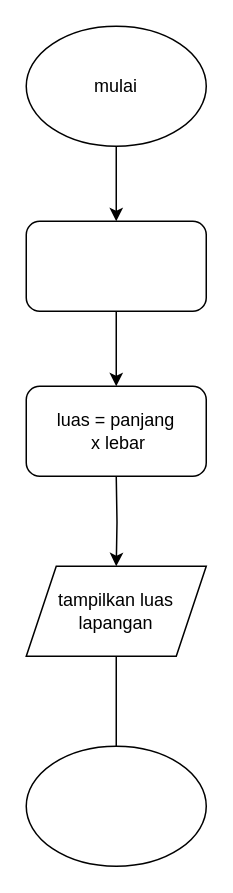
This 233x893 diagram has some shape labels left out. Each missing label, with the box of its shape:
input panjang dan lebar lapangan: (25, 220, 206, 311)
selesai: (25, 745, 206, 866)
